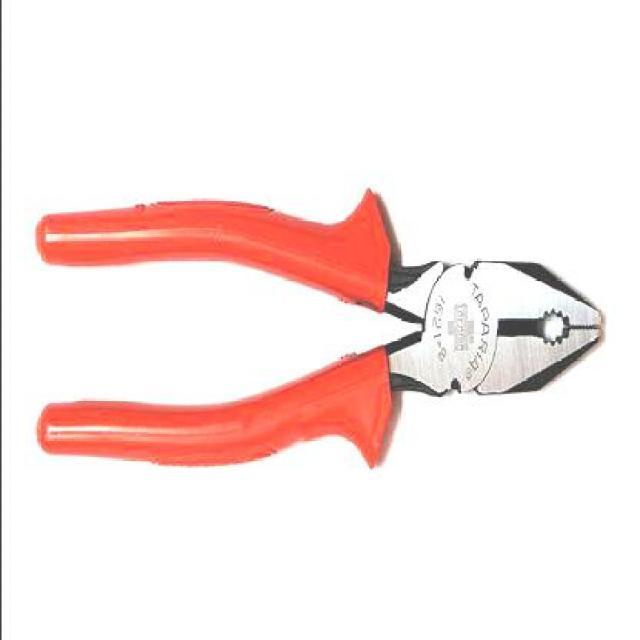pliers: (34, 180, 606, 474)
